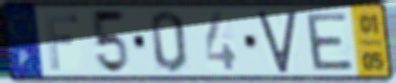0: (149, 8, 191, 75)
4: (204, 9, 239, 74)
5: (87, 8, 131, 76)
E: (303, 11, 356, 73)
F: (42, 12, 81, 72)
V: (255, 8, 299, 76)
